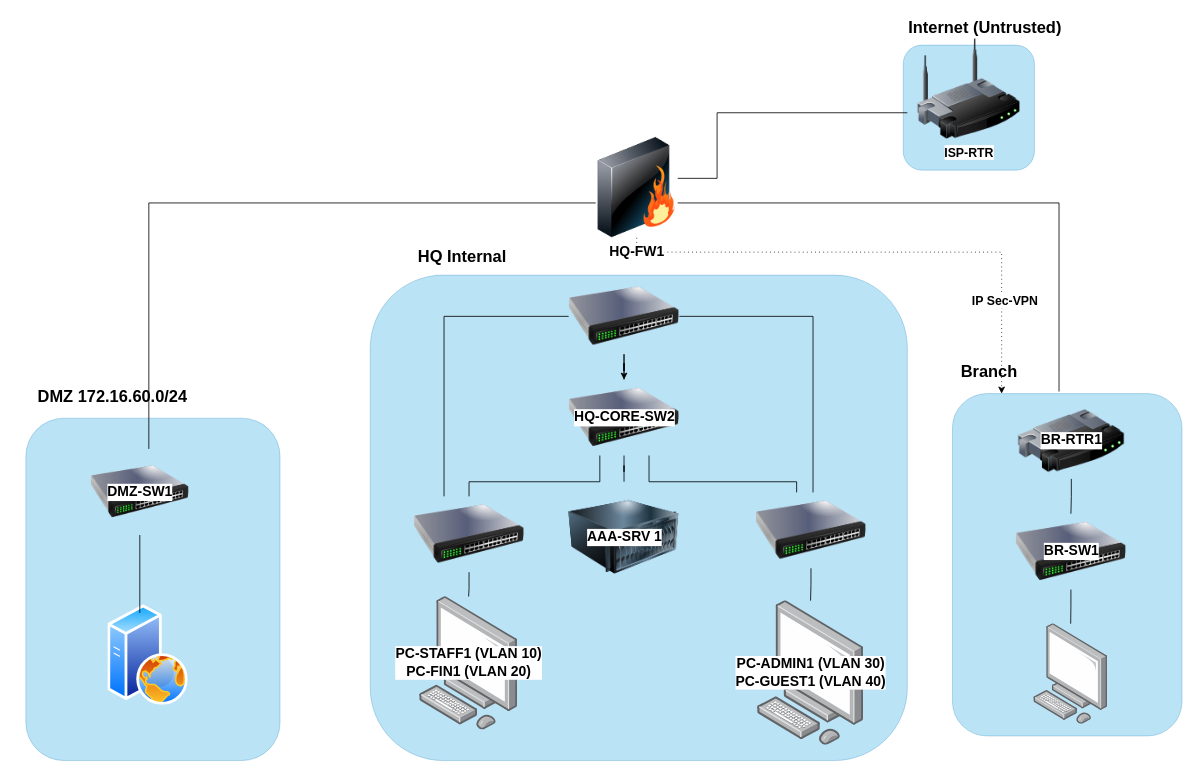
Some shapes in this 1196 by 775 pixel diagram are drawn without their labels. Each missing label, with the box of its shape:
BR-PC1: (1033, 623, 1107, 724)
DMZ-SRV1: (107, 604, 188, 705)
HQ-ACC-SW1: (413, 496, 524, 572)
HQ-ACC-SW2: (755, 492, 866, 568)
HQ-CORE-SW1: (568, 278, 679, 354)
